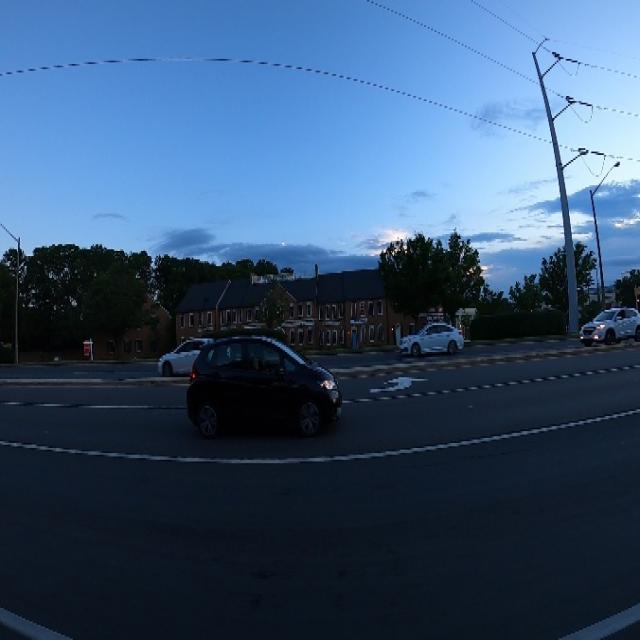car: (184, 325, 347, 440), (572, 295, 640, 354), (160, 332, 240, 382), (400, 317, 467, 369)
